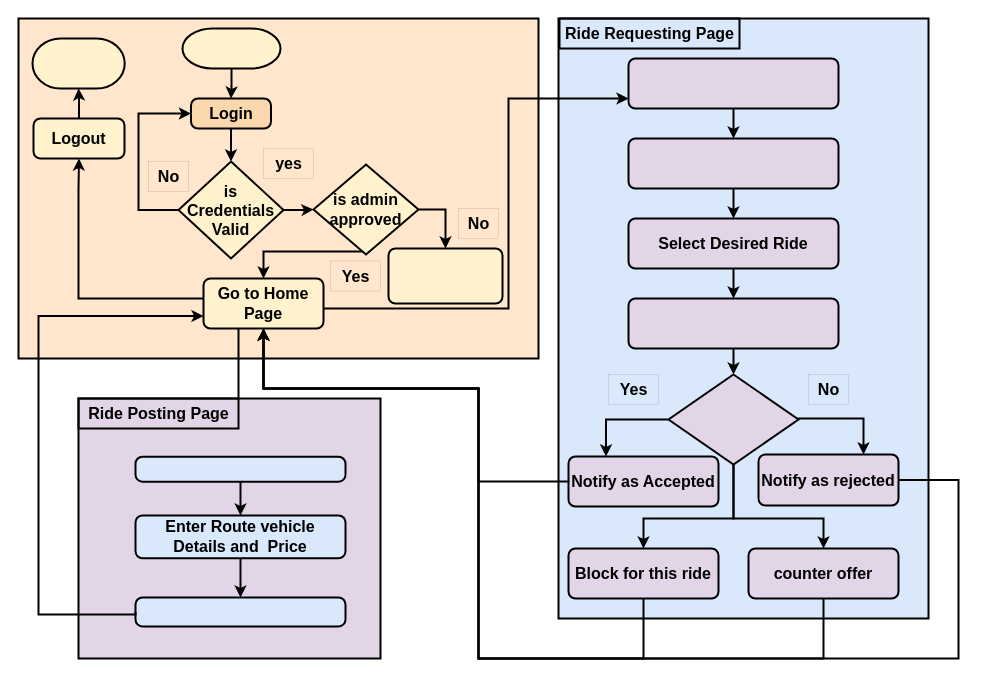
Image size: 984x684. Some labels were removed from this diagram. Here are the shapes that lost their labels. From the top down, the box of each, then its label:
(31, 37, 125, 89): End
(181, 27, 281, 69): Start
(627, 57, 839, 109): Browse Rides
(627, 137, 839, 189): View Rides Listings
(387, 247, 503, 304): show verification progress
(627, 297, 839, 349): Request seat / seats
(667, 373, 799, 465): Driver Desision
(134, 455, 346, 482): Select Post a Ride
(134, 596, 346, 627): Review and post
